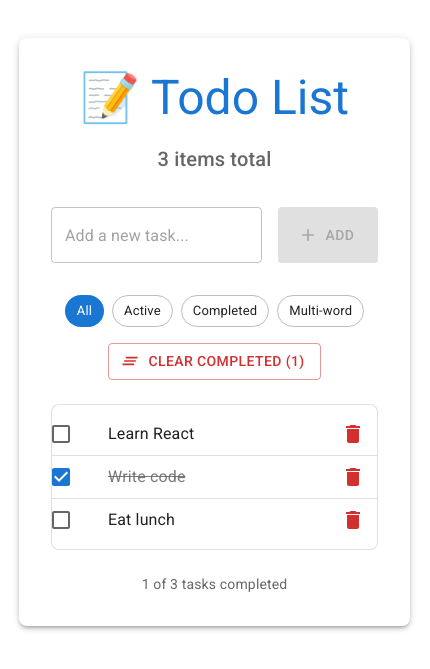
ClunkyTodoList Component › Filtering › shows empty state message when filter returns no results
This screenshot has width=430, height=669.
In the field with placeholder "Add a new task...": (156, 235) [51,207,262,263], type "SingleWordTask"
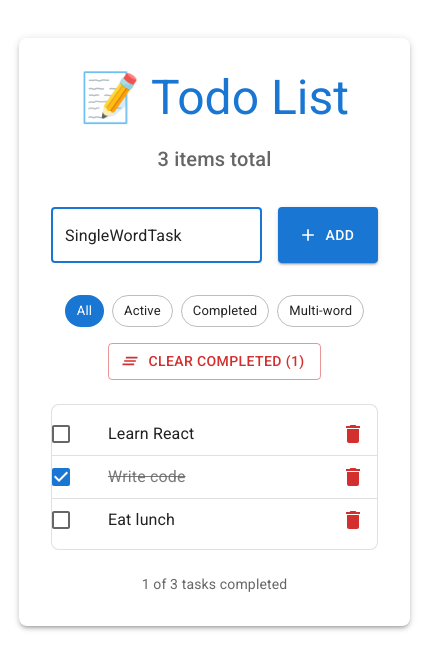
Click the button "Add": (328, 235) [278,207,378,263]
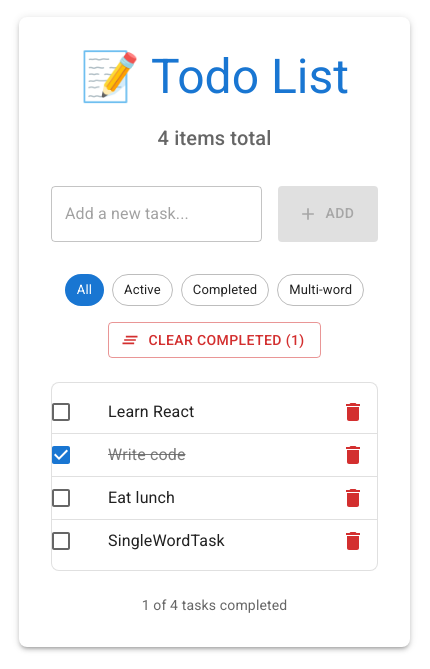
Click the button named "delete" next to "Learn React": (353, 412) [333,392,373,432]
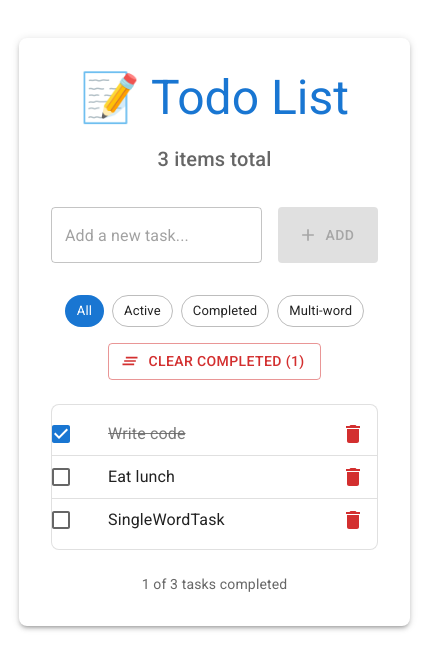
Click the button named "delete" next to "Write code": (353, 434) [333,414,373,454]
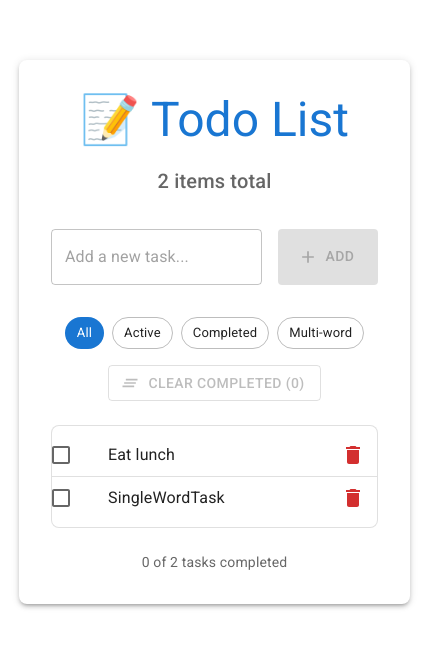
Click the button named "delete" next to "Eat lunch": (353, 455) [333,435,373,475]
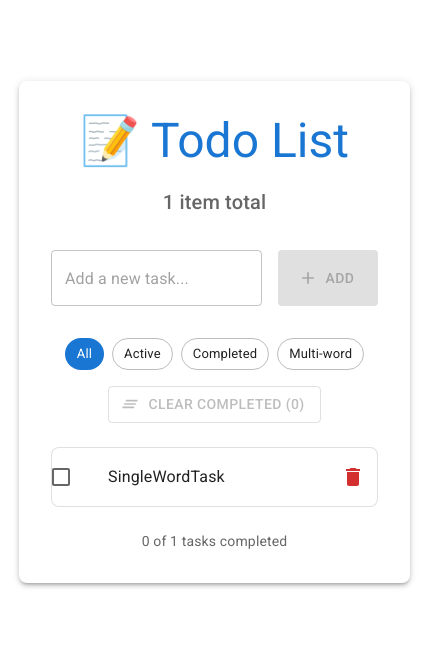
Click the button "Multi-word": (321, 354) [277,338,364,370]
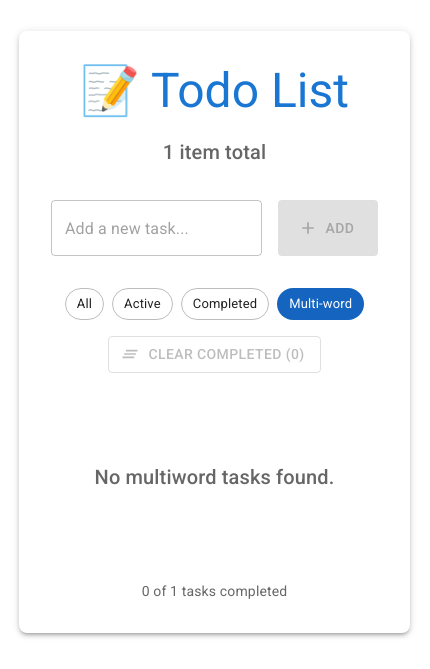
Expected: the heading "No multiword tasks found." is shown, [94,465,334,489]
